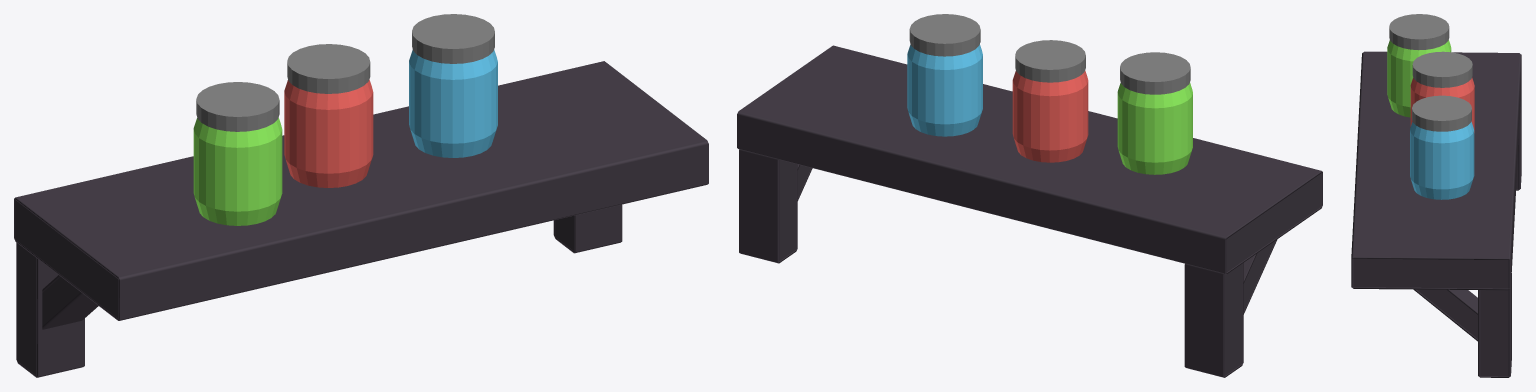
The model's file is RepisaSM_02.fbx.
3 renders of one model, left to right at view 1: azimuth 30°, elevation 25°; view 2: azimuth 150°, elevation 25°; view 3: azimuth 270°, elevation 25°, orthographic. The views are drawn at different scales.
Visible parts, largest first — view 1: Hang shelf; view 2: Hang shelf; view 3: Hang shelf.
Boxes of the visible parts, box(x1,y1,x2,y2) form: Hang shelf: box(14, 14, 708, 377); Hang shelf: box(737, 14, 1322, 377); Hang shelf: box(1351, 14, 1521, 377).
Bounding box in the file's own units: 298 × 135 × 104.
